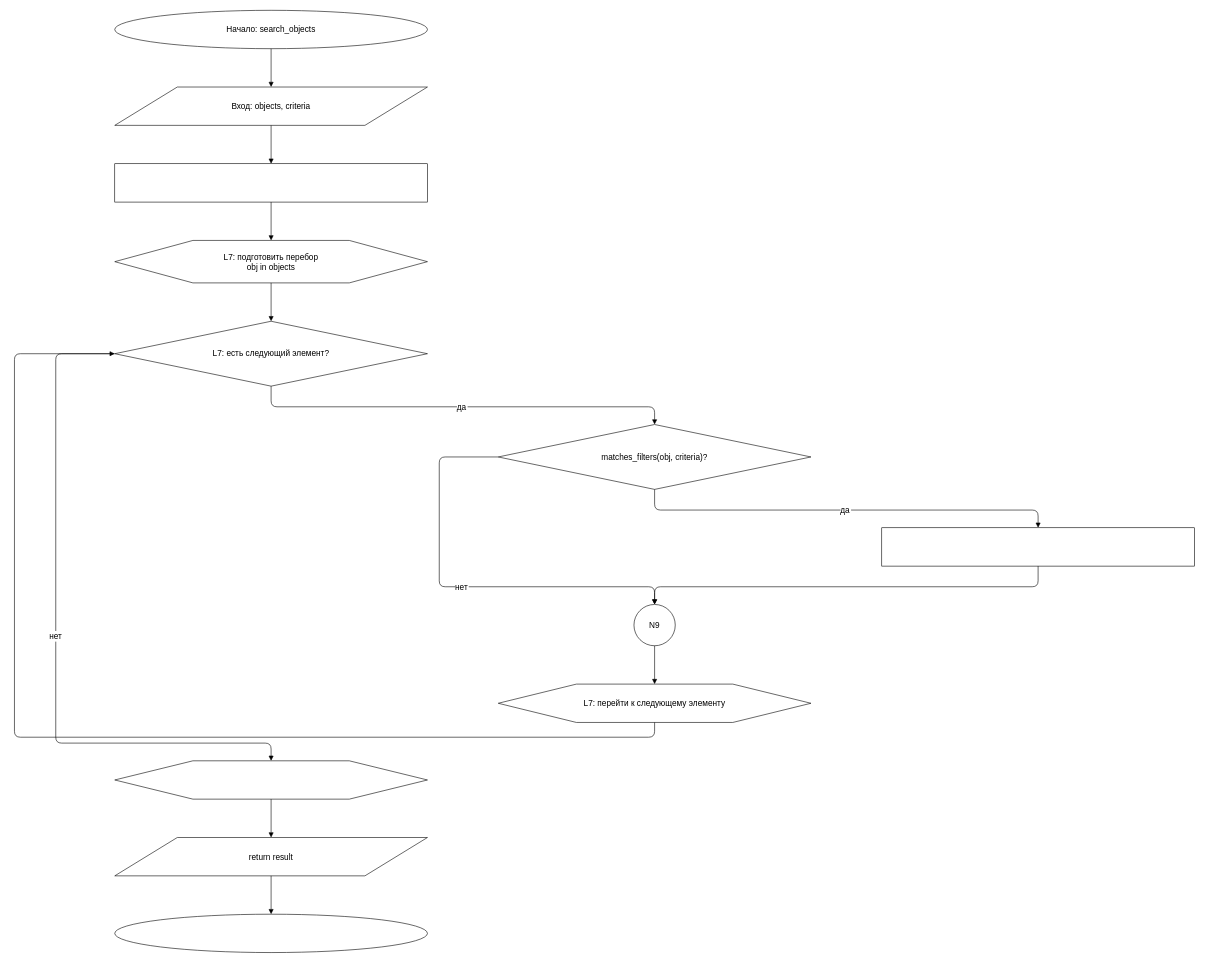
This 1205x963 diagram has some shape labels left out. Each missing label, with the centre of its shape:
"L7: выход из цикла" belongs at point (270, 779).
"result = []" belongs at point (270, 182).
"result.append(dict(obj))" belongs at point (1037, 546).
"Конец" belongs at point (270, 933).
